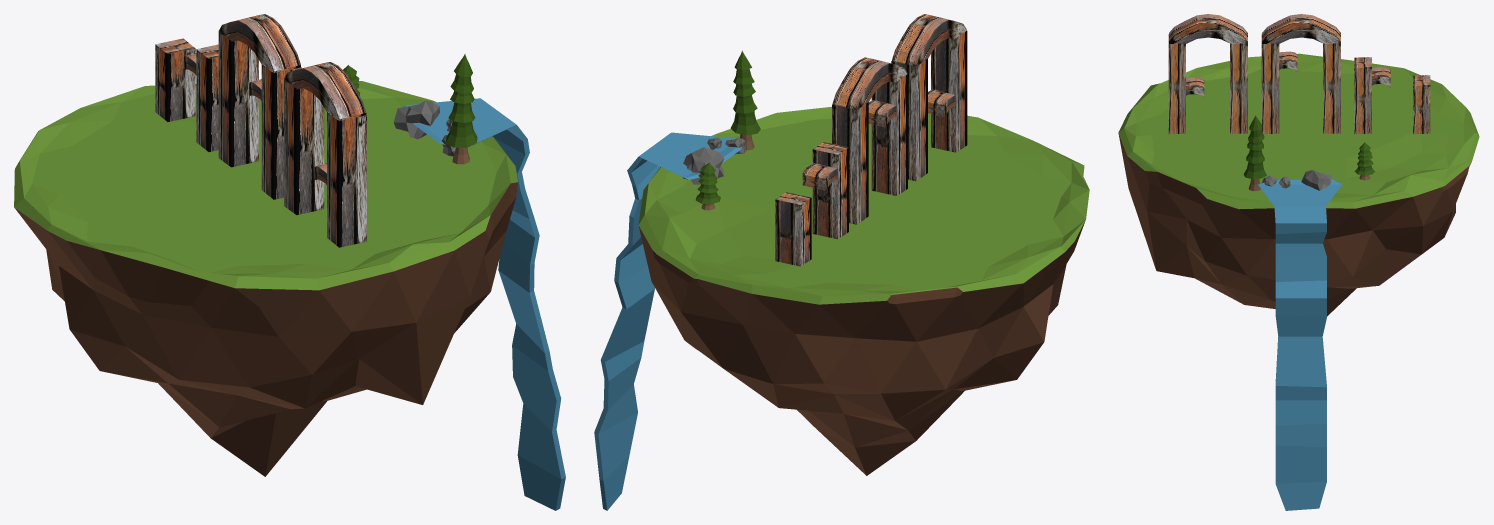
Rendered from Isla.glb.
3 renders of one model, left to right at view 1: azimuth 30°, elevation 25°; view 2: azimuth 150°, elevation 25°; view 3: azimuth 270°, elevation 25°, orthographic. The views are drawn at different scales.
Parts seen in each view (by area): view 1: Isla, Agua, columna.001, columna.003, columna, columna.002, columna.005, arco.001, arco.004, columna.004, Arbol.001, Roca 3; view 2: Isla, Agua, columna.001, columna.002, columna.003, columna.004, columna.005, columna, arco.004, arco.001, Arbol.001, Roca 3 (+4 smaller); view 3: Isla, Agua, arco.001, columna.002, arco.004, columna.001, columna, columna.003, columna.004, Arbol.001, columna.005, Arbol (+1 smaller).
Part boxes in pixels (<box>): Isla: <box>14,81,518,476</box>; Agua: <box>403,98,565,510</box>; columna.001: <box>327,111,366,247</box>; columna.003: <box>218,32,258,167</box>; columna: <box>284,80,324,215</box>; columna.002: <box>261,63,301,199</box>; columna.005: <box>155,38,195,121</box>; arco.001: <box>284,62,366,120</box>; arco.004: <box>218,14,300,72</box>; columna.004: <box>196,44,218,151</box>; Arbol.001: <box>445,54,477,164</box>; Roca 3: <box>393,100,439,139</box>; Isla: <box>638,106,1089,475</box>; Agua: <box>594,132,741,510</box>; columna.001: <box>931,30,967,152</box>; columna.002: <box>871,74,907,195</box>; columna.003: <box>832,102,868,224</box>; columna.004: <box>812,142,848,239</box>; columna.005: <box>775,192,811,266</box>; columna: <box>891,58,927,181</box>; arco.004: <box>832,57,907,109</box>; arco.001: <box>892,14,966,66</box>; Arbol.001: <box>730,50,760,150</box>; Roca 3: <box>683,147,724,184</box>; Isla: <box>1118,53,1479,316</box>; Agua: <box>1258,179,1342,510</box>; arco.001: <box>1169,14,1247,43</box>; columna.002: <box>1261,34,1279,134</box>; arco.004: <box>1262,14,1340,43</box>; columna.001: <box>1168,34,1185,134</box>; columna: <box>1230,43,1247,133</box>; columna.003: <box>1323,43,1340,133</box>; columna.004: <box>1354,57,1371,134</box>; Arbol.001: <box>1243,115,1266,191</box>; columna.005: <box>1413,75,1430,134</box>; Arbol: <box>1354,142,1374,180</box>.
Size of the model in its own units: 48.18 by 50.46 by 42.05.
Materials: 13 (13 with a texture image).
